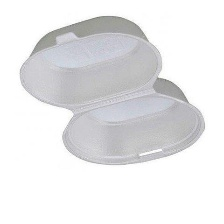foam_box: (15, 11, 209, 172)
